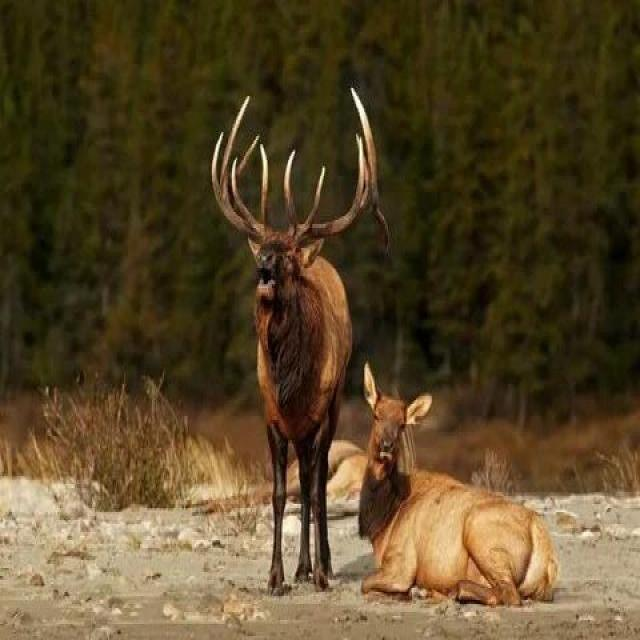deer: (217, 104, 378, 580), (358, 366, 577, 640)
